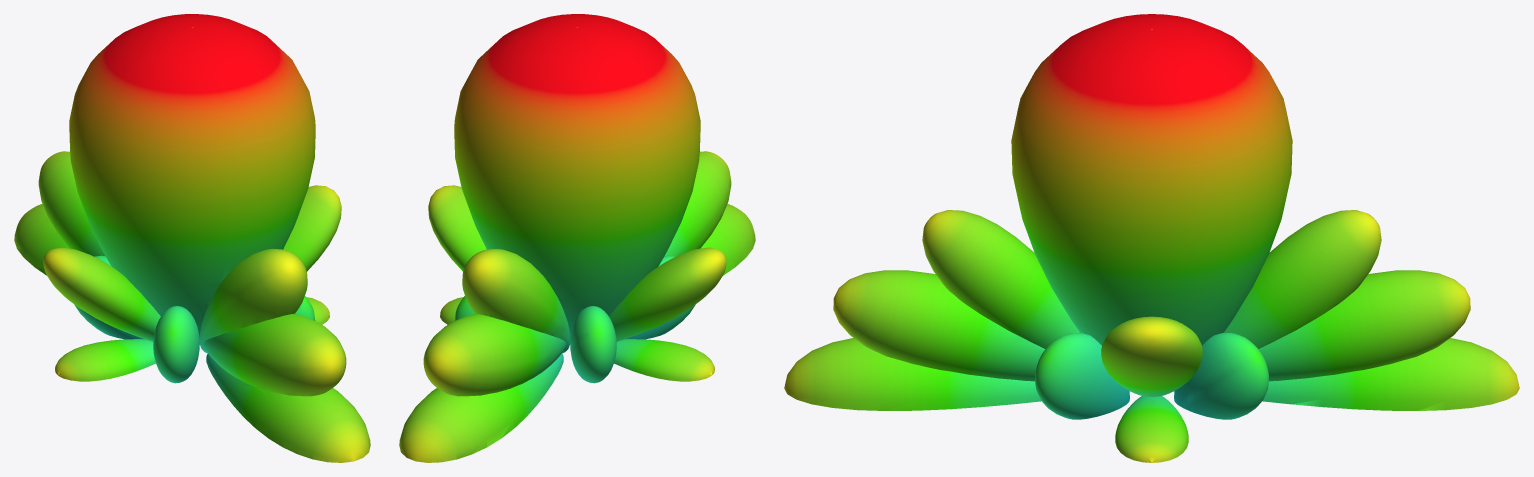
The model's file is radius_final1.glb.
The picture shows the model from 3 angles, left to right: view 1: azimuth 30°, elevation 25°; view 2: azimuth 150°, elevation 25°; view 3: azimuth 270°, elevation 25°; orthographic projection. The views are drawn at different scales.
Visible parts, largest first — view 1: 球体.004; view 2: 球体.004; view 3: 球体.004.
Part boxes in pixels (left/top/right/bottom): 球体.004: left=14, top=14, right=370, bottom=462; 球体.004: left=399, top=14, right=755, bottom=462; 球体.004: left=784, top=14, right=1519, bottom=462.
Bounding box in the file's own units: 2.29 × 2.4 × 4.46.
21 materials, 21 textured.
